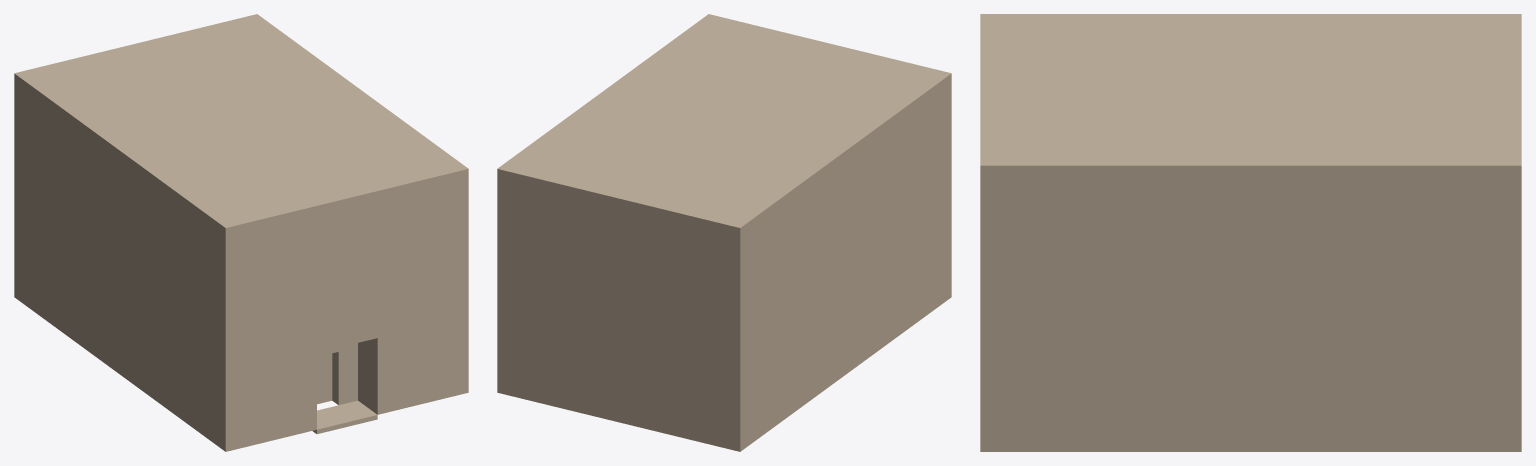
File: massing.glb
3 views of the same model, side by side, from view 1: azimuth 30°, elevation 25°; view 2: azimuth 150°, elevation 25°; view 3: azimuth 270°, elevation 25° (orthographic). The views are drawn at different scales.
Visible parts, largest first — view 1: building/exterior; view 2: building/exterior; view 3: building/exterior.
Part boxes in pixels (bbox=[...]): building/exterior: bbox=[14, 14, 468, 451]; building/exterior: bbox=[497, 14, 951, 451]; building/exterior: bbox=[980, 14, 1521, 451].
Size of the model in its own units: 10 by 8.98 by 15.07.
